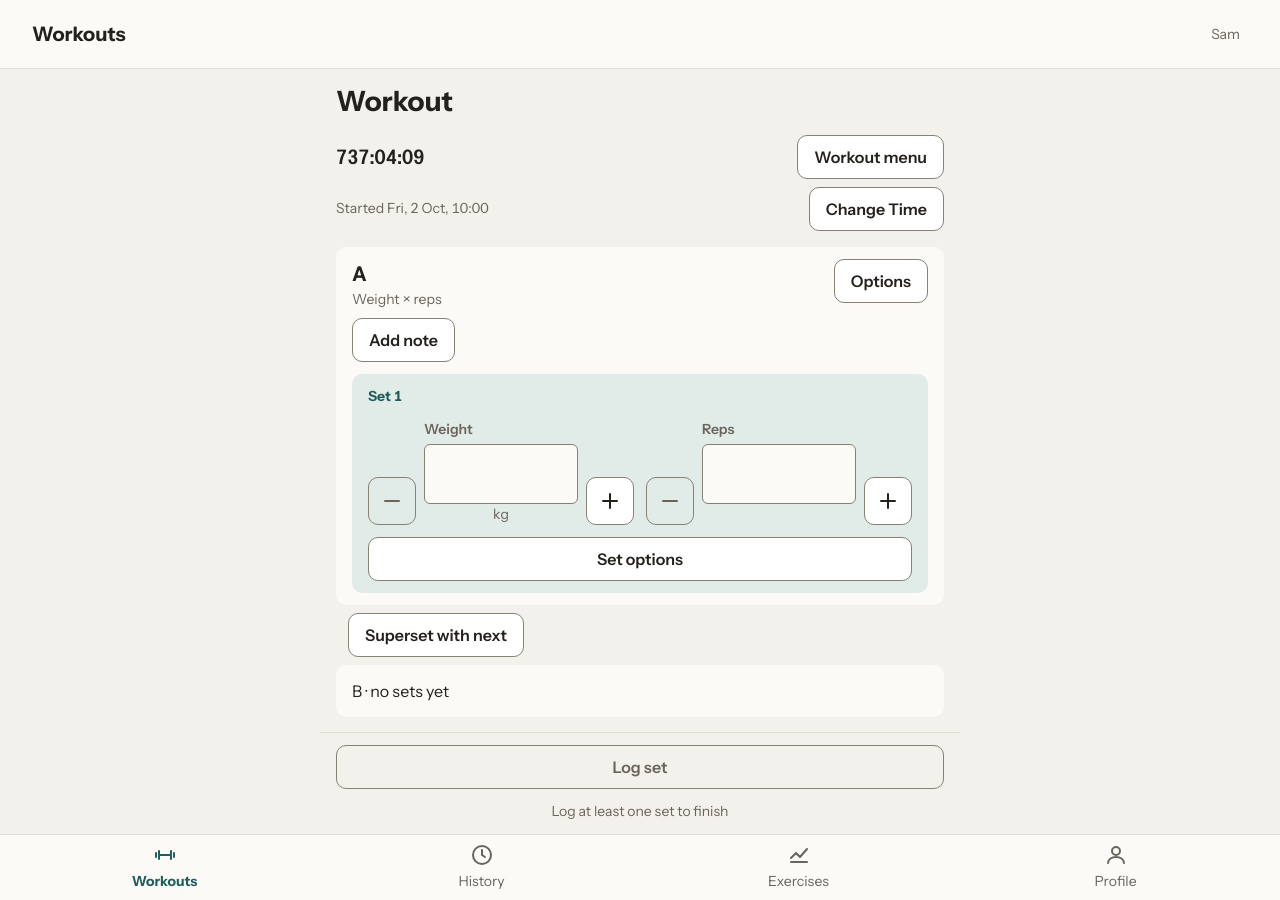
Test case: 17.1 AC13 — adding and removing › removing the current exercise re-derives current
Expected: the heading "Workout" is shown, [336,84,453,118]
Click the button with aria-label "Options for " at point(881, 281), box [834,259,928,303]
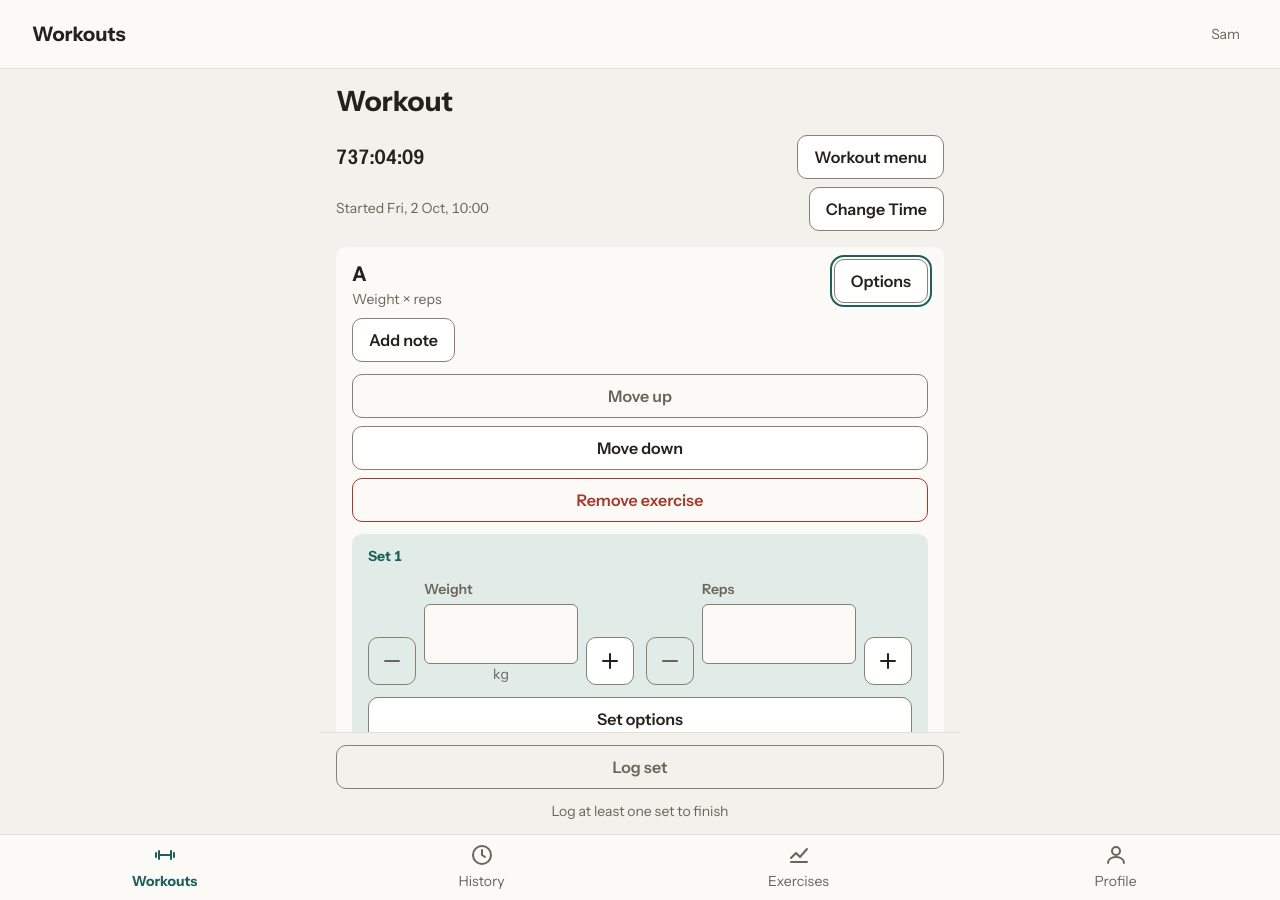
Click the button "Remove exercise" at point(640, 500), box [352,478,928,522]
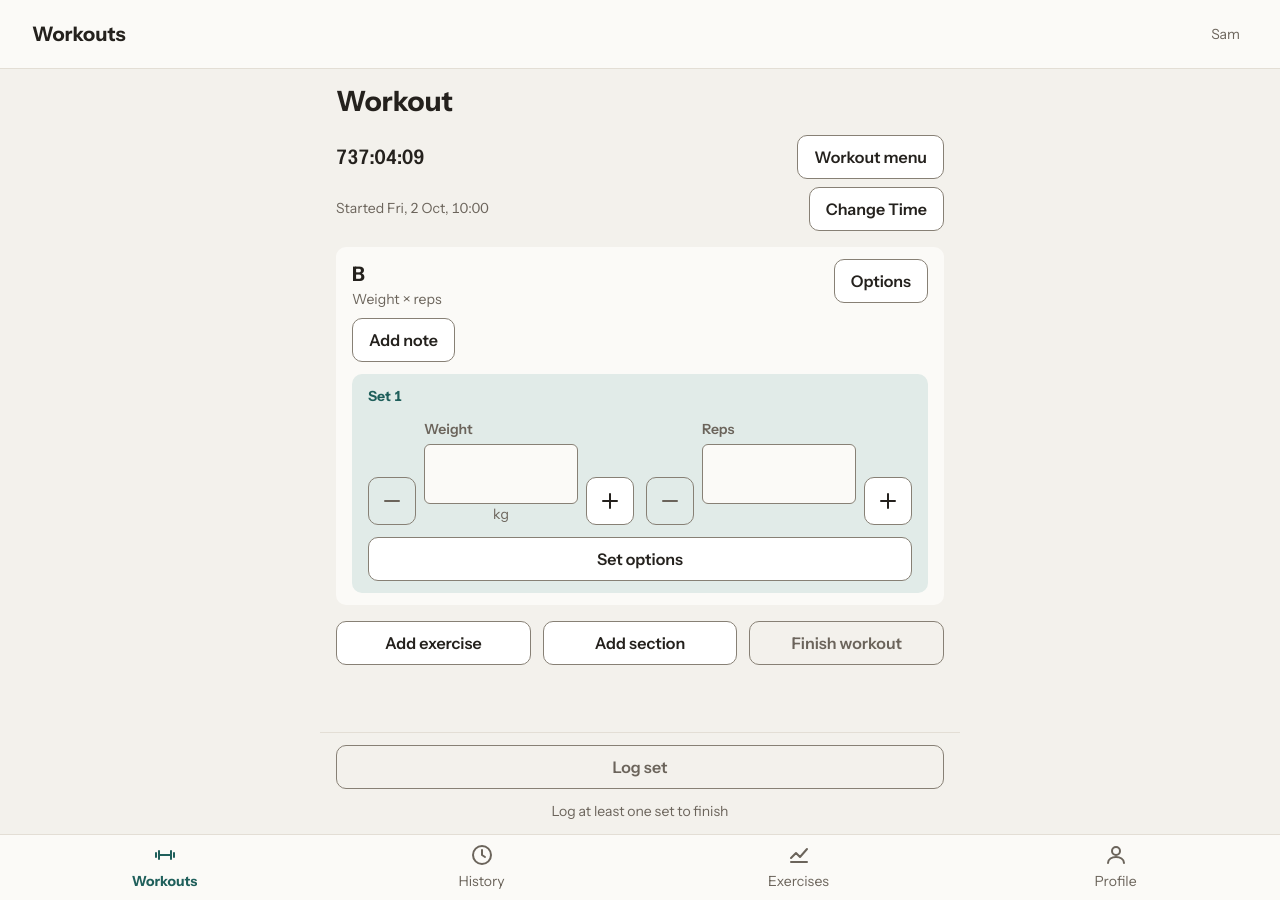
Now the form named "Log a set of B" is shown, box [352,374,928,593]
